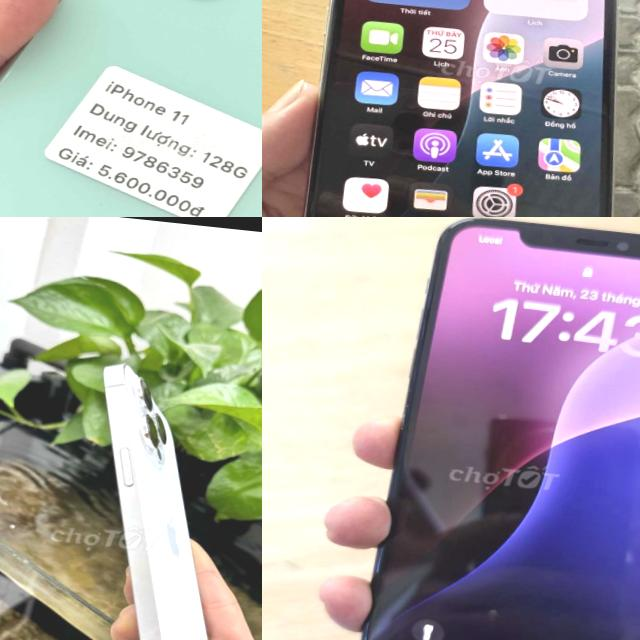gen_11: (317, 217, 640, 640), (285, 0, 640, 217), (0, 0, 262, 217)
gen_14: (61, 352, 262, 640)
